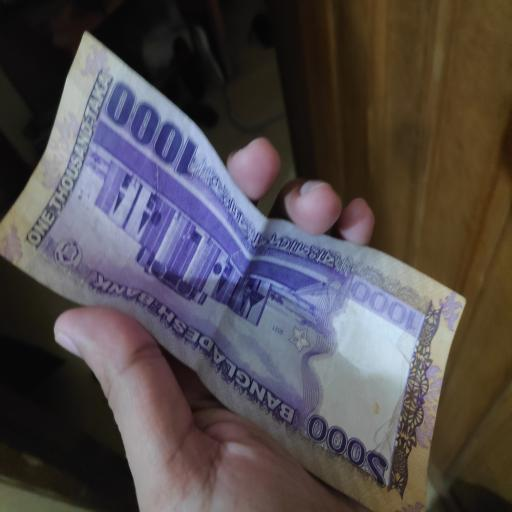1000taka: (2, 32, 468, 512)
